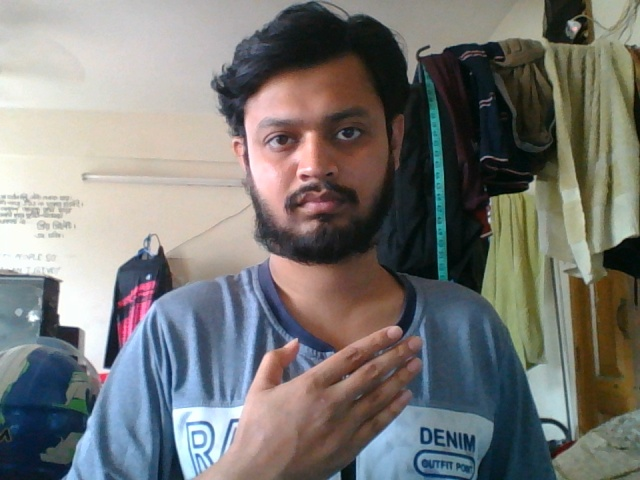ami: (206, 319, 433, 472)
